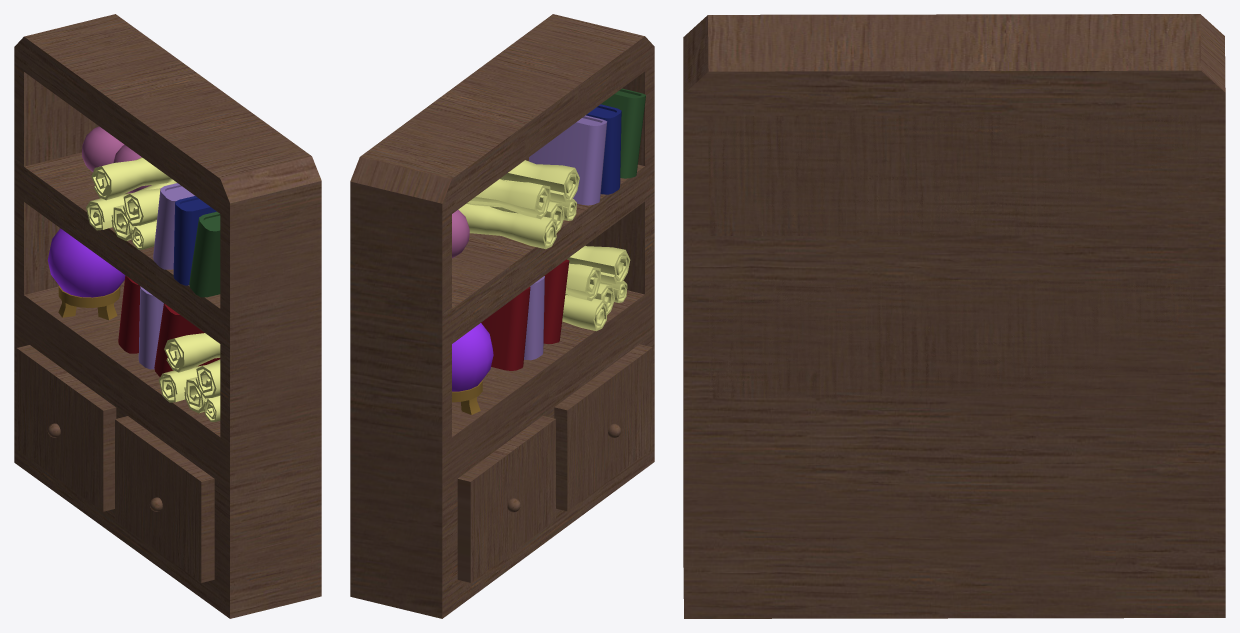
File: шкаф длинный.fbx
The picture shows the model from 3 angles, left to right: view 1: azimuth 30°, elevation 25°; view 2: azimuth 150°, elevation 25°; view 3: azimuth 270°, elevation 25°; orthographic projection. The views are drawn at different scales.
Parts seen in each view (by area): view 1: Plane.001; view 2: Plane.001; view 3: Plane.001.
Part boxes in pixels (x1,y1,x2,y2): Plane.001: [14, 14, 321, 618]; Plane.001: [350, 14, 654, 618]; Plane.001: [683, 14, 1225, 618].
Bounding box in the file's own units: 221 × 794 × 712.
Materials: 11 (1 with a texture image).
